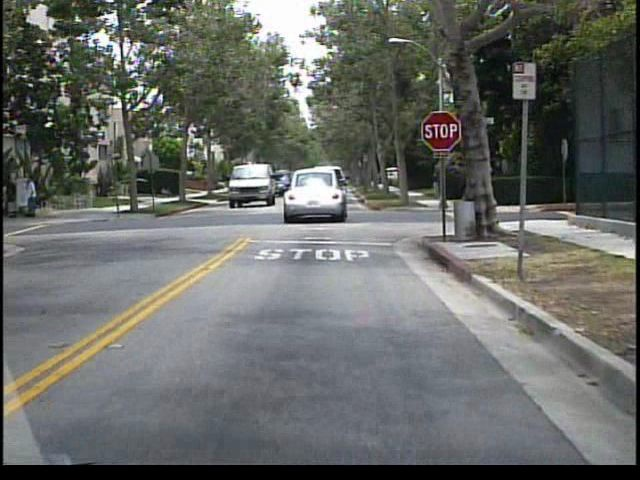person: (6, 172, 24, 219), (29, 170, 43, 221)
